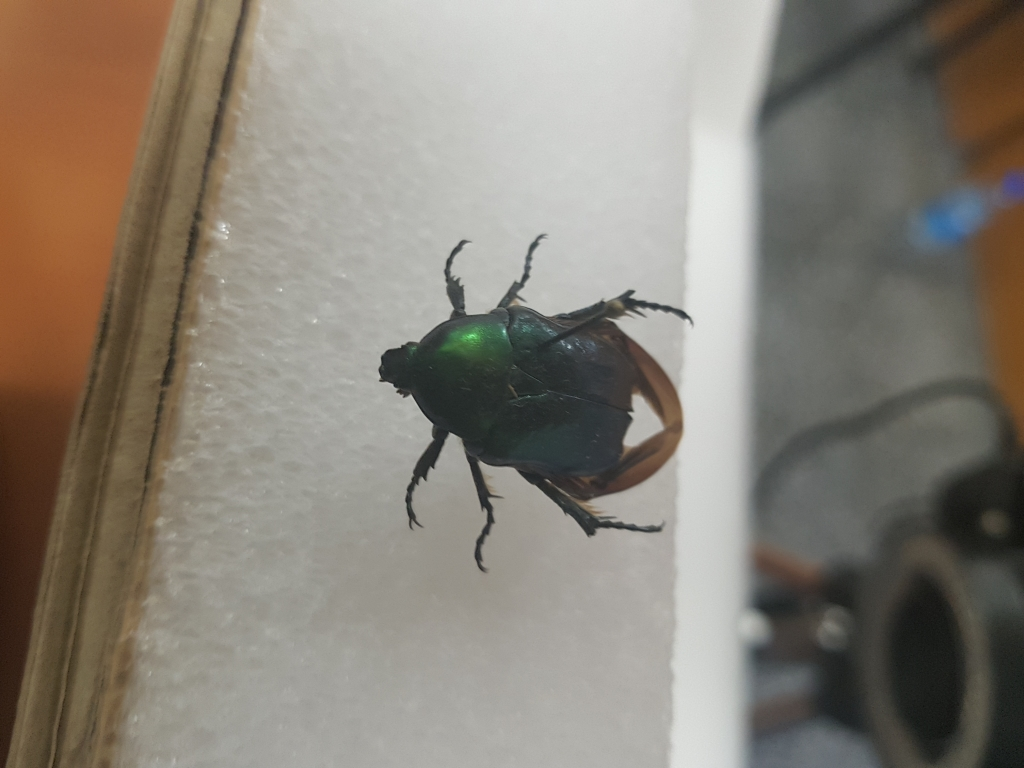Protaetia_angustata_angustata: (379, 224, 688, 580)
